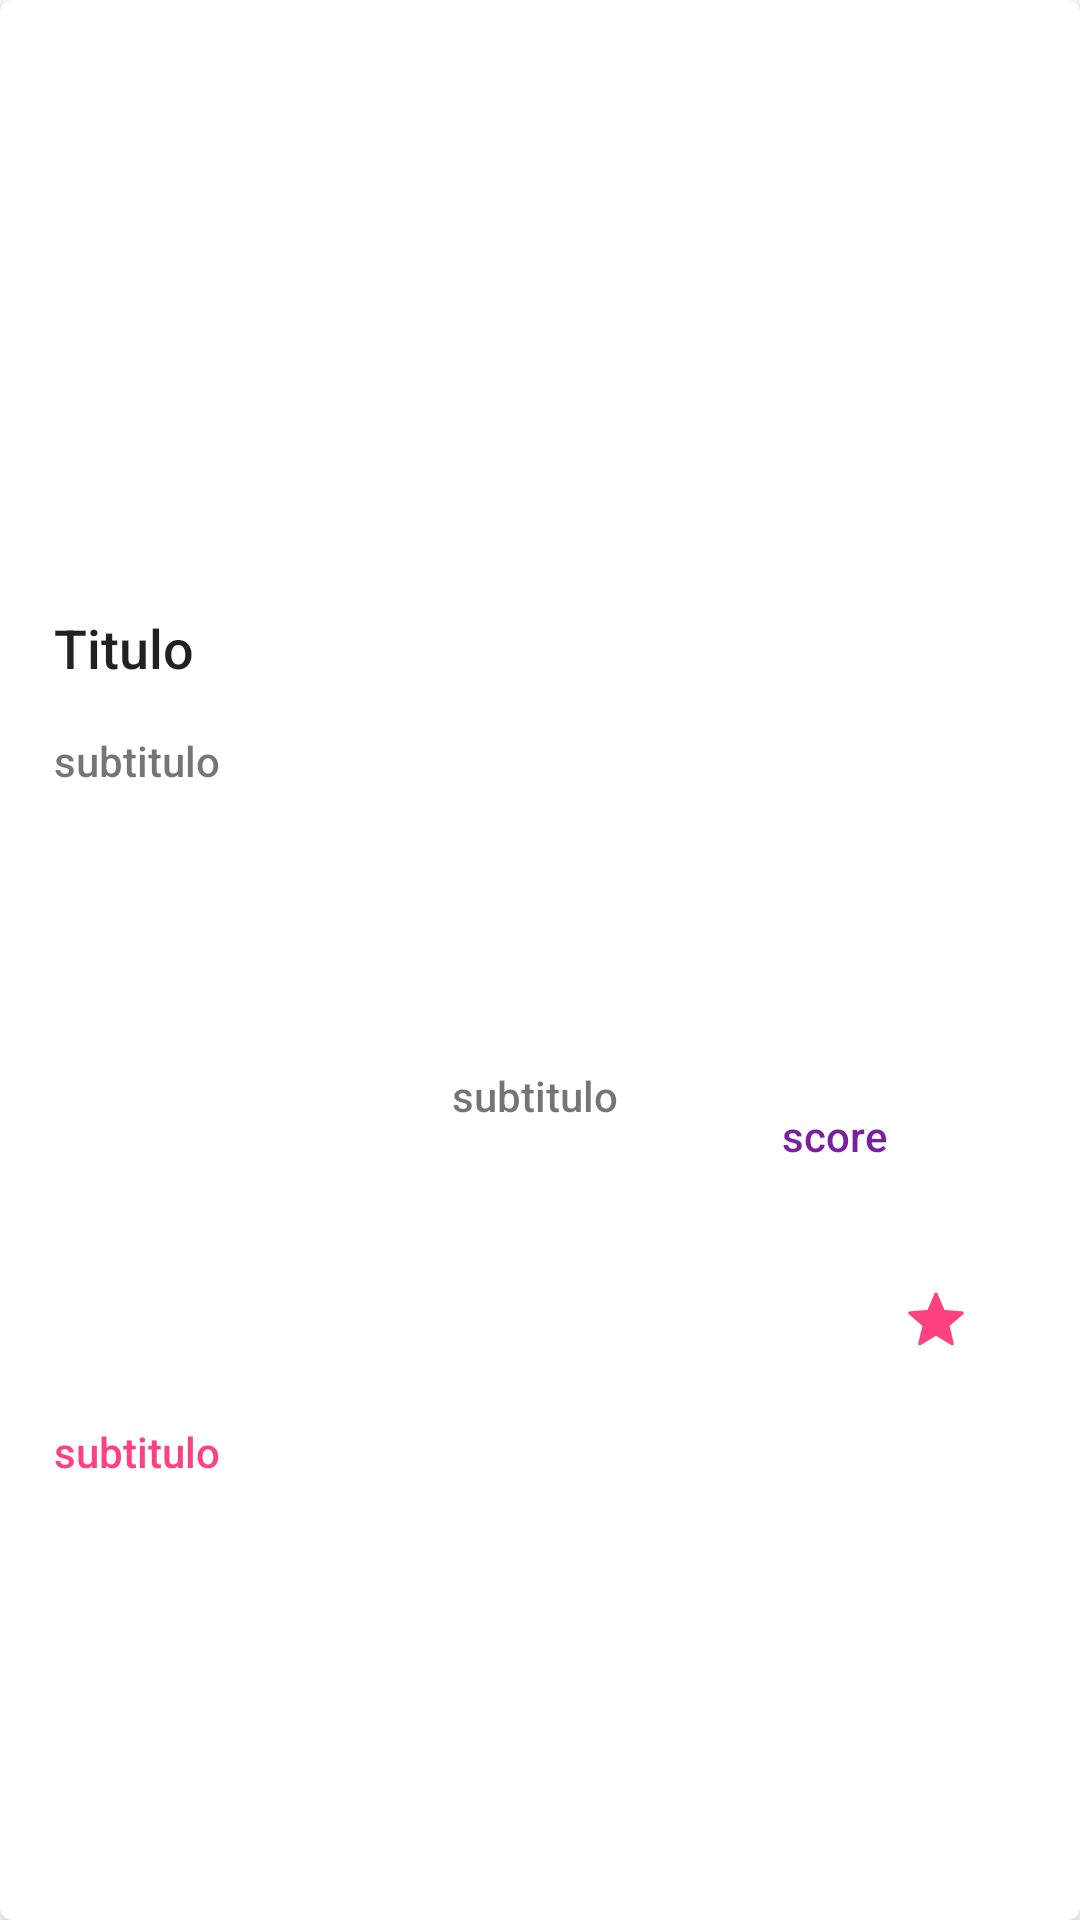

Screen size 1080×1920. Icon name, then its center in pixels as (x=x, y=y):
grade: (x=936, y=1319)
